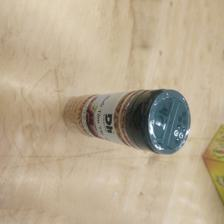TayNinh_green: (61, 89, 193, 158)
